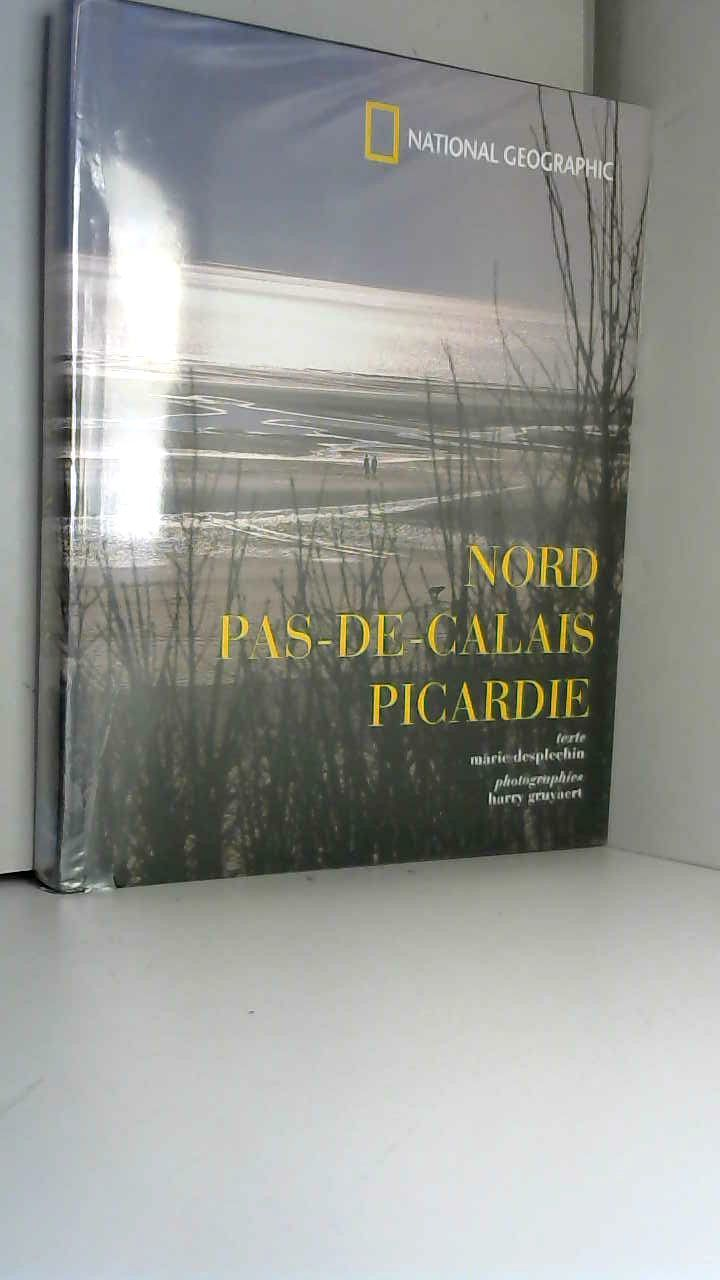book: (17, 0, 668, 926)
